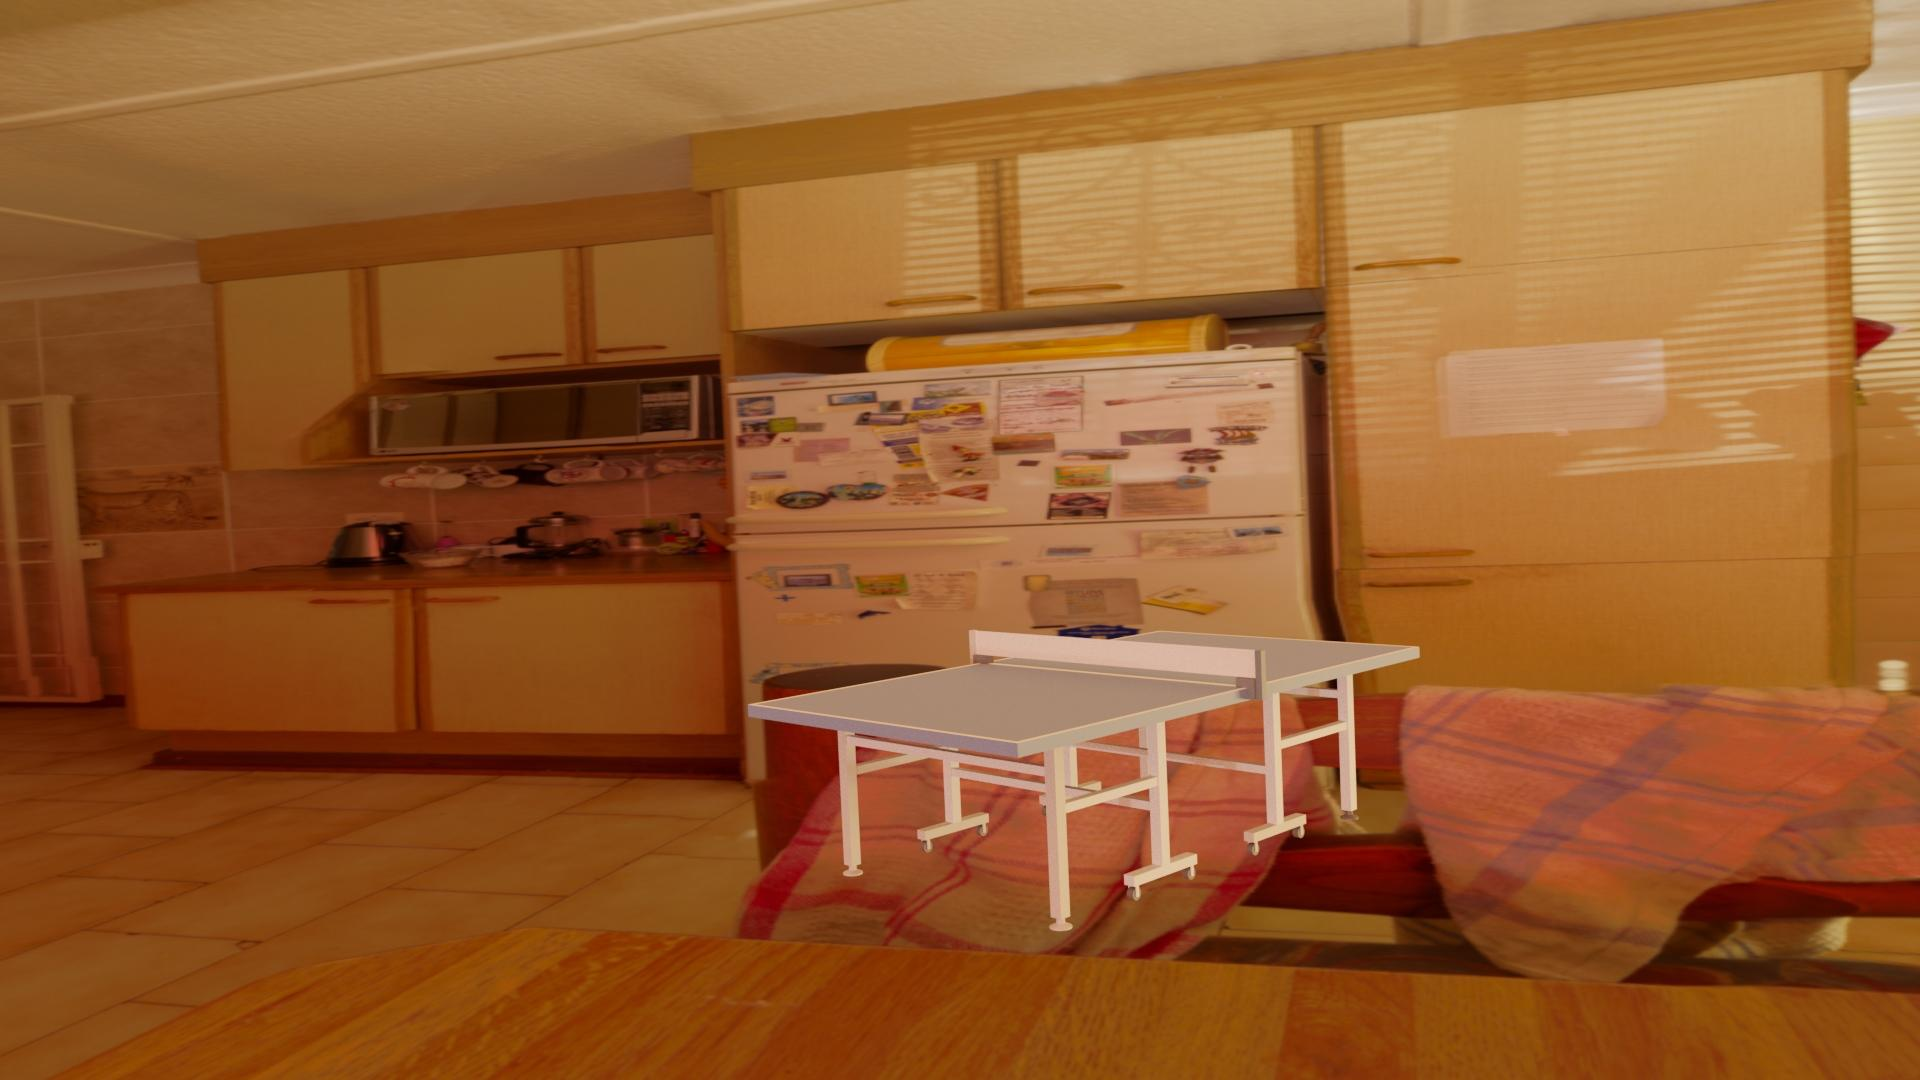table: (754, 632, 1414, 741)
